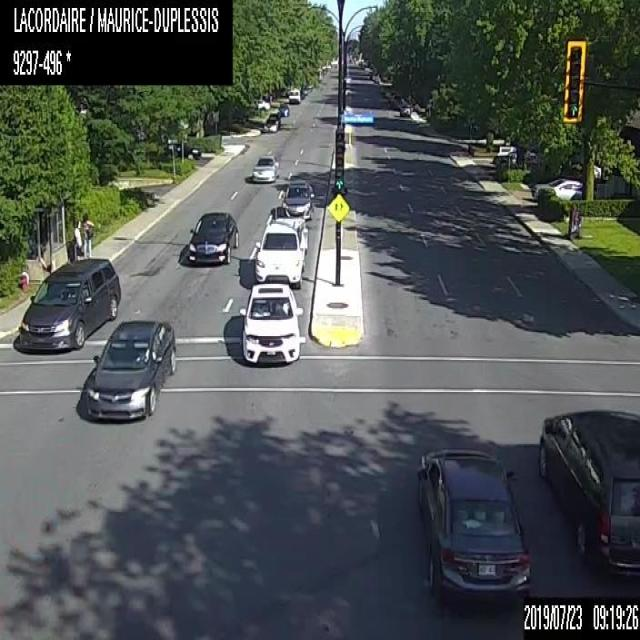pedestrian: (82, 212, 93, 257), (72, 218, 83, 260)
vehicle: (414, 444, 532, 607), (536, 407, 639, 576), (16, 253, 121, 351), (85, 315, 177, 420), (241, 280, 304, 363), (252, 217, 304, 285), (187, 208, 239, 264), (532, 176, 600, 199), (282, 178, 313, 216), (490, 148, 537, 168), (251, 154, 280, 182), (161, 142, 200, 158), (262, 112, 280, 131), (389, 92, 402, 108), (276, 102, 290, 116), (254, 98, 269, 110), (288, 88, 300, 103), (399, 103, 410, 116)
